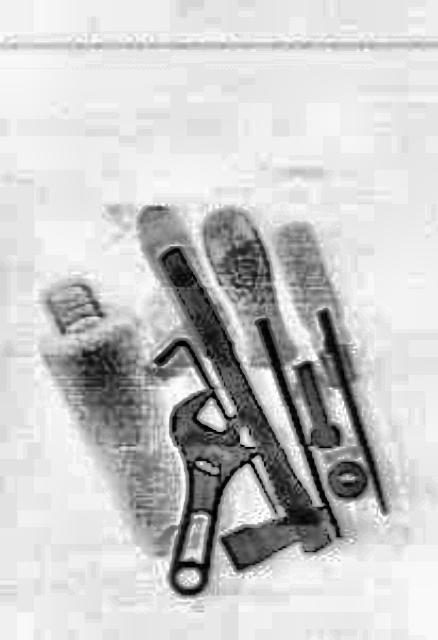Wrench: (136, 371, 264, 609)
